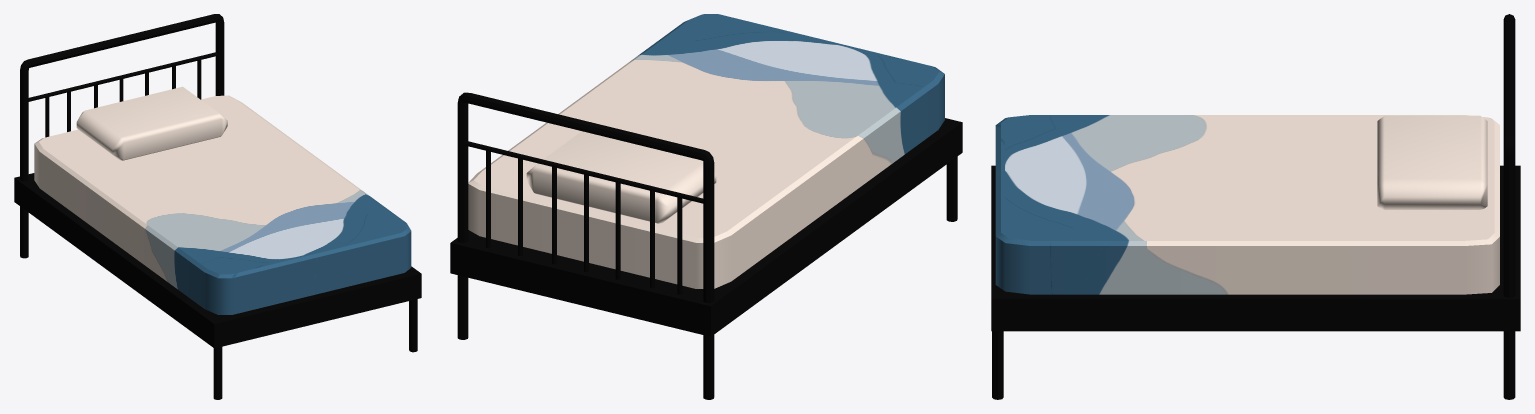
The model's file is Single Bed.fbx.
3 views of the same model, side by side, from view 1: azimuth 30°, elevation 25°; view 2: azimuth 150°, elevation 25°; view 3: azimuth 270°, elevation 25° (orthographic). The views are drawn at different scales.
Parts seen in each view (by area): view 1: Small_Bed1_pCube11; view 2: Small_Bed1_pCube11; view 3: Small_Bed1_pCube11.
Boxes of the visible parts, x1=… form: Small_Bed1_pCube11: x1=14, y1=14, x2=421, y2=399; Small_Bed1_pCube11: x1=450, y1=14, x2=962, y2=399; Small_Bed1_pCube11: x1=991, y1=14, x2=1520, y2=399.
Size of the model in its own units: 114 by 103 by 191.
